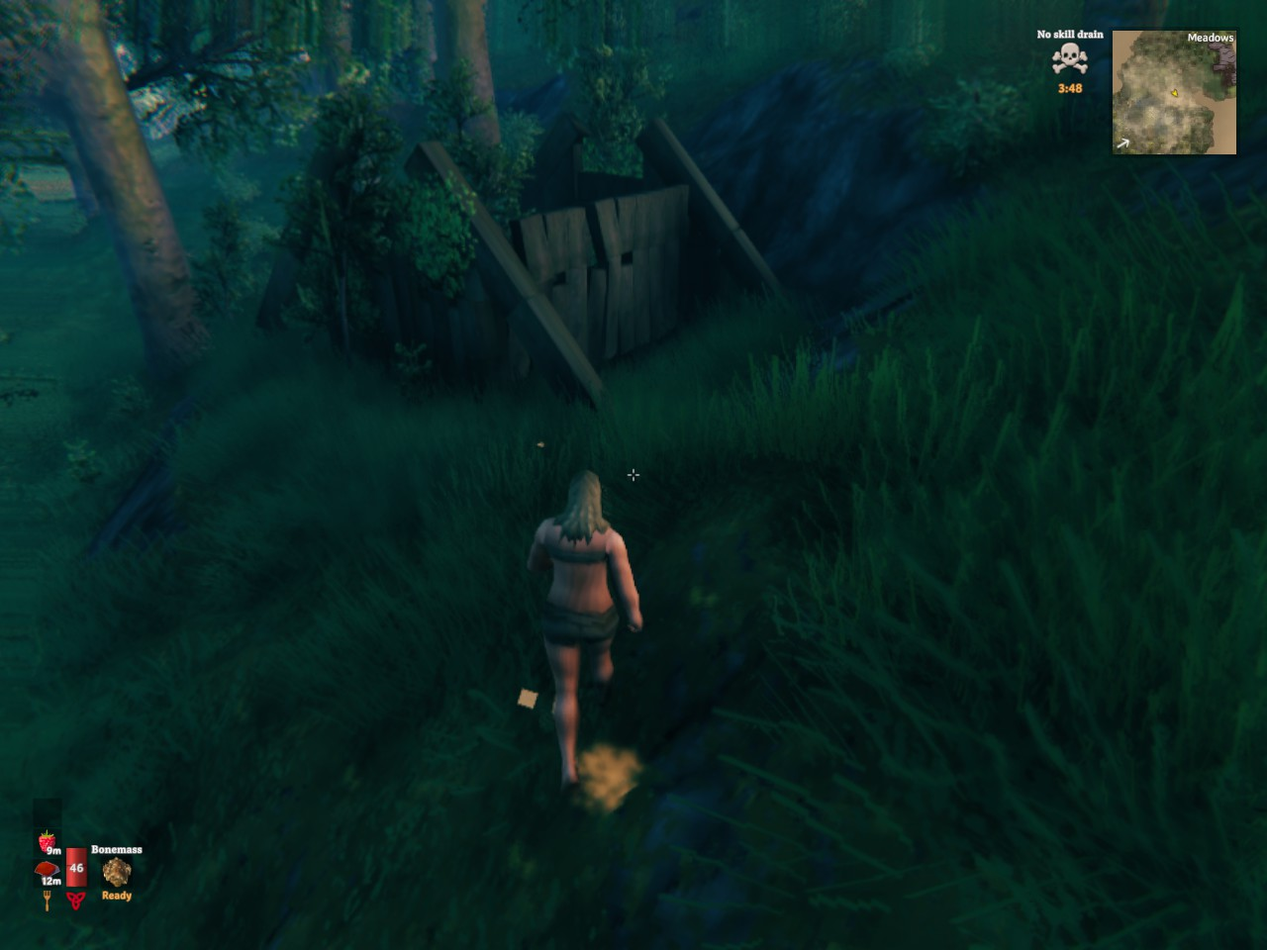House: (257, 116, 784, 391)
